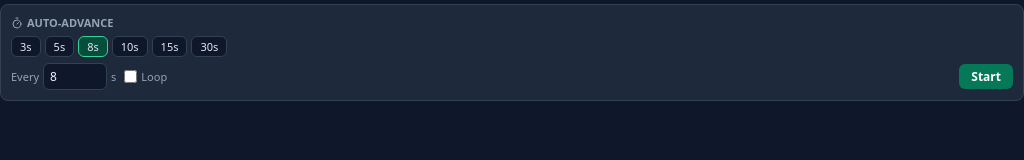
Test case: AutoAdvanceControl › blocks an invalid interval
This screenshot has width=1024, height=160.
Replace the text in the number field with test id "auto-advance-interval" with "0": (75, 76) [43,63,107,90]
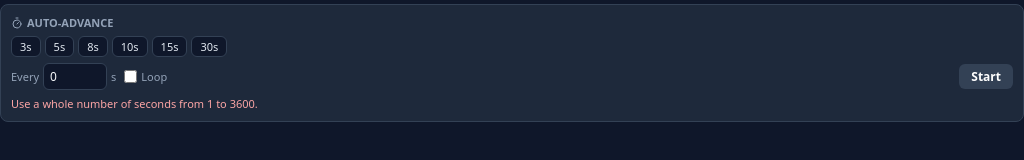
Result: the button with test id "auto-advance-start" is disabled at [959,64,1013,89]
Result: the text "Use a whole number of seconds from 1 to 3600." is shown at [11,96,258,111]
Replace the text in the number field with test id "auto-advance-interval" with "3601": (75, 76) [43,63,107,90]
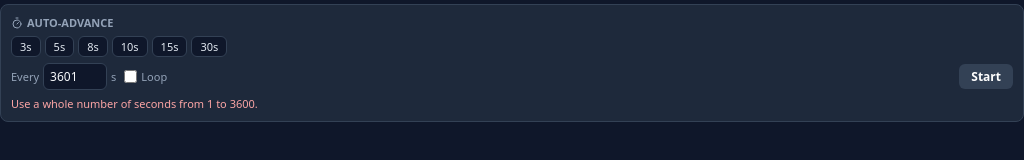
Result: the button with test id "auto-advance-start" is disabled at [959,64,1013,89]
Replace the text in the number field with test id "auto-advance-interval" with "5": (75, 76) [43,63,107,90]
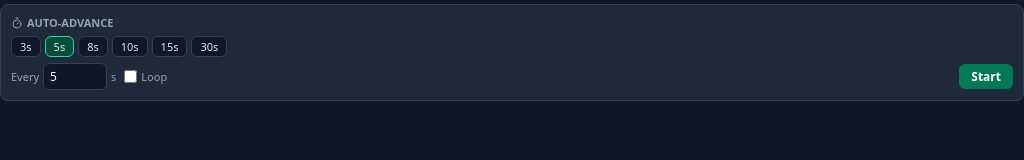
Result: the button with test id "auto-advance-start" is enabled at [959,64,1013,89]
